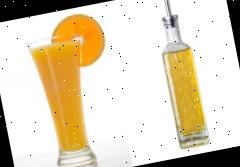glass: (25, 31, 107, 167), (148, 0, 210, 150)
